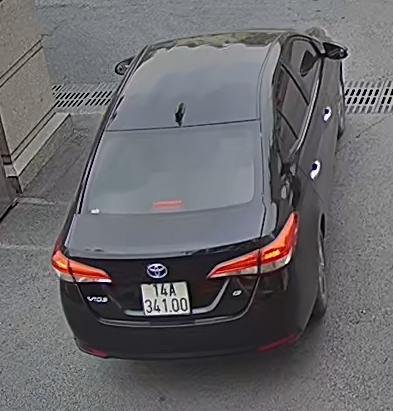vehicle plate: (136, 279, 192, 316)
